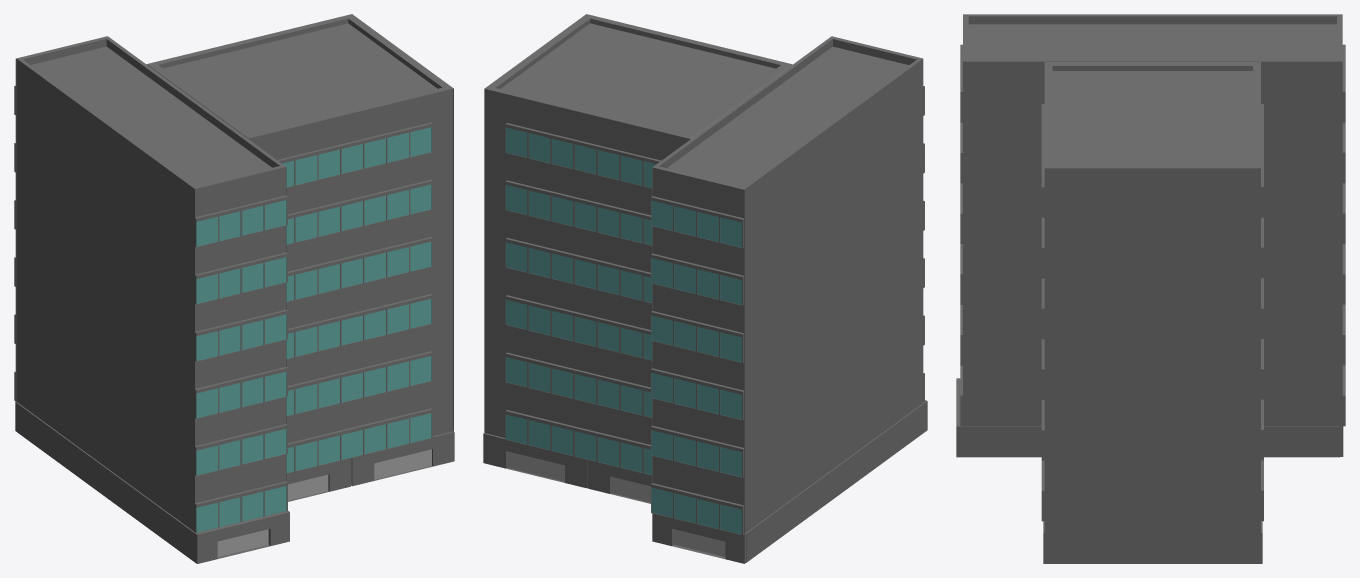
Rendered from Building5.fbx.
3 views of the same model, side by side, from view 1: azimuth 30°, elevation 25°; view 2: azimuth 150°, elevation 25°; view 3: azimuth 270°, elevation 25° (orthographic). The views are drawn at different scales.
Visible parts, largest first — view 1: SmallWithRoof, polySurface3, Windows2, polySurface1, Windows1, polySurface4, GroundFloor, polySurface5; view 2: SmallWithRoof, polySurface2, Windows2, polySurface1, Windows1, polySurface5, GroundFloor; view 3: polySurface1, SmallWithRoof, GroundFloor, Windows2, Windows1.
Boxes of the visible parts, box(x1,y1,x2,y2) form: SmallWithRoof: box(16, 36, 286, 531); polySurface3: box(248, 88, 453, 443); Windows2: box(277, 122, 432, 473); polySurface1: box(147, 14, 453, 431); Windows1: box(14, 85, 287, 533); polySurface4: box(195, 167, 285, 503); GroundFloor: box(15, 401, 454, 563); polySurface5: box(15, 59, 16, 401); SmallWithRoof: box(652, 36, 923, 533); polySurface2: box(484, 89, 690, 444); Windows2: box(505, 123, 660, 475); polySurface1: box(484, 14, 791, 432); Windows1: box(651, 86, 924, 535); polySurface5: box(652, 167, 744, 533); GroundFloor: box(483, 400, 927, 563); polySurface1: box(1044, 62, 1260, 532); SmallWithRoof: box(963, 14, 1342, 426); GroundFloor: box(956, 378, 1343, 563); Windows2: box(1041, 104, 1263, 521); Windows1: box(960, 44, 1345, 426).
Size of the model in its own units: 3910 by 4656 by 4158.
